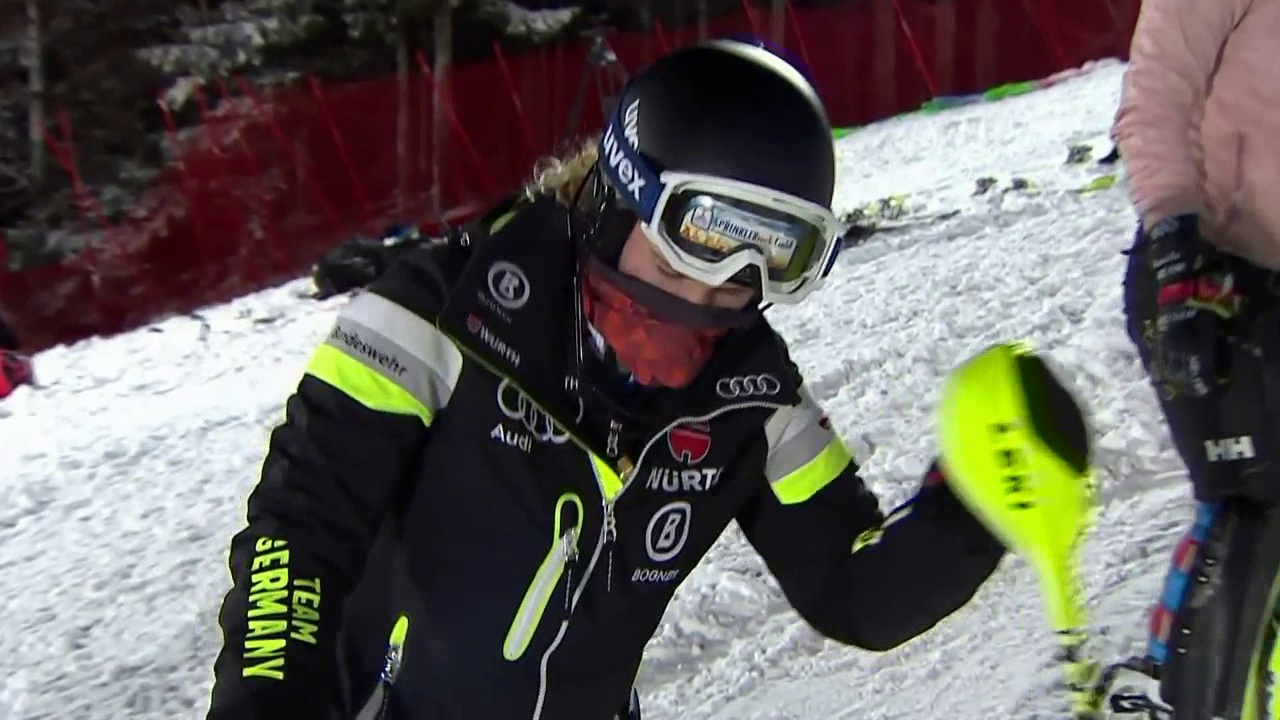audi: (490, 384, 573, 459), (703, 368, 794, 407)
